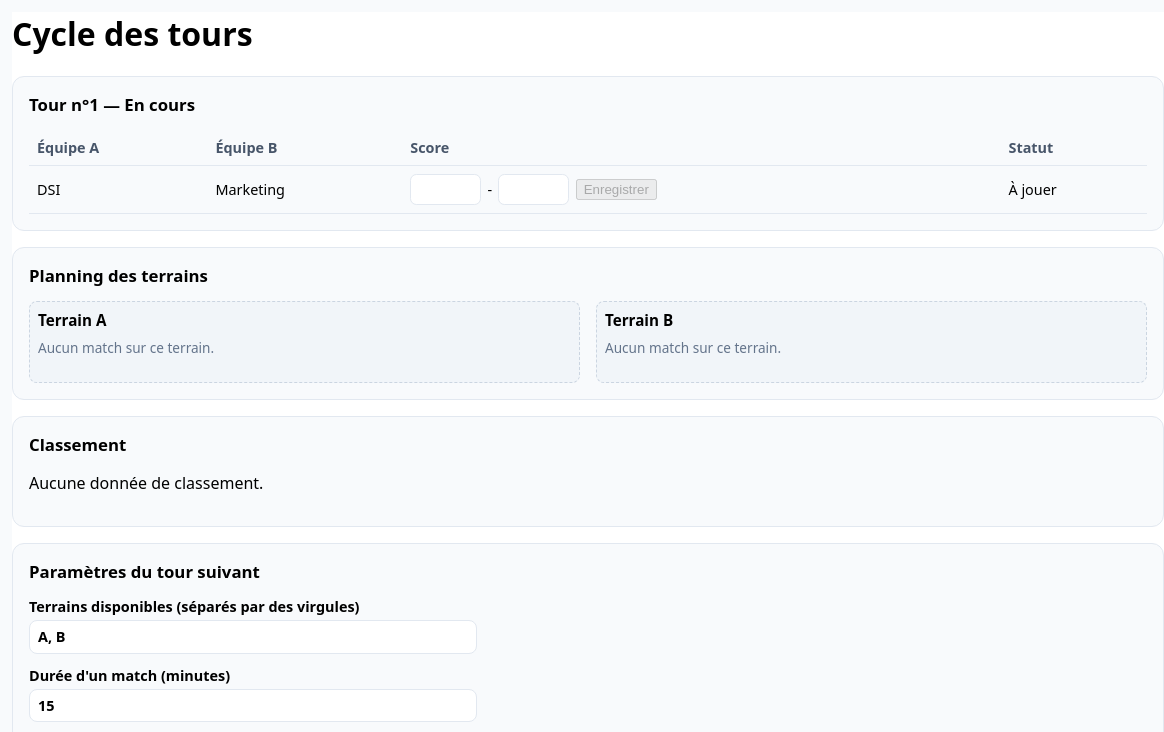
AdminTourPage › Saisie du score d'un match › le bouton "Enregistrer" est désactivé tant que les deux scores ne sont pas saisis
This screenshot has width=1164, height=732.
Expected: the heading "Tour n°1 — En cours" is shown, [29,93,195,116]
Expected: the button "Enregistrer" is disabled, [576,179,657,200]
Step 1. Type "3" into the number field named "Score DSI" → (446, 190), box [410,174,481,205]
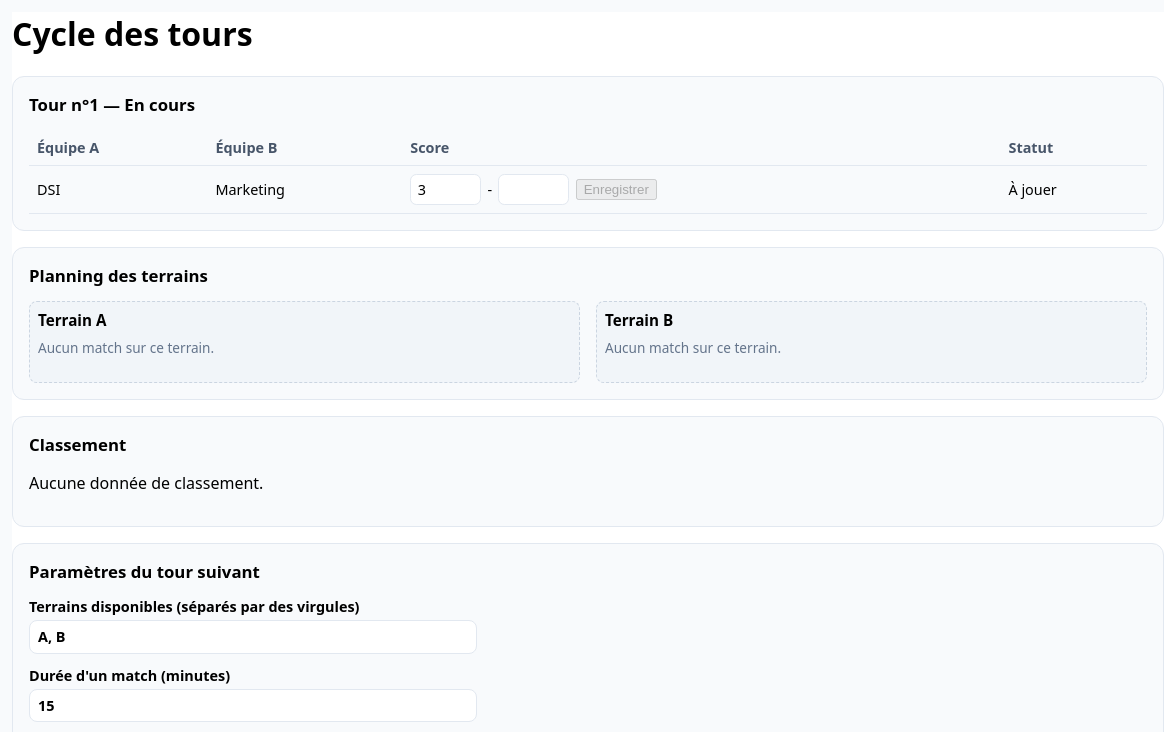
Expected: the button "Enregistrer" is disabled, [576,179,657,200]
Step 2. Type "1" into the number field named "Score Marketing" → (534, 190), box [498,174,569,205]
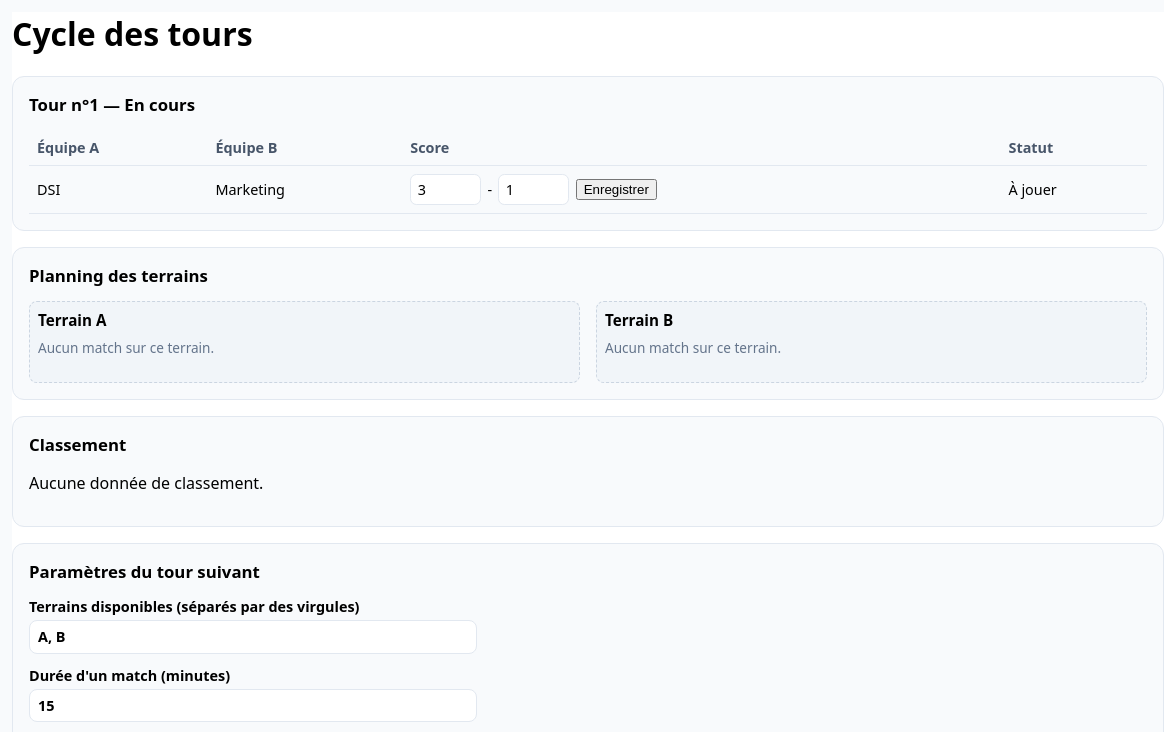
Result: the button "Enregistrer" is enabled at [576,179,657,200]
